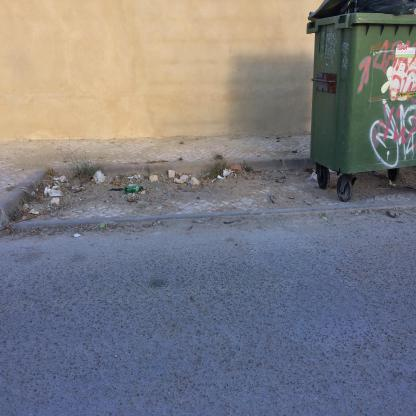plastik: (125, 184, 143, 194), (48, 189, 64, 197)
